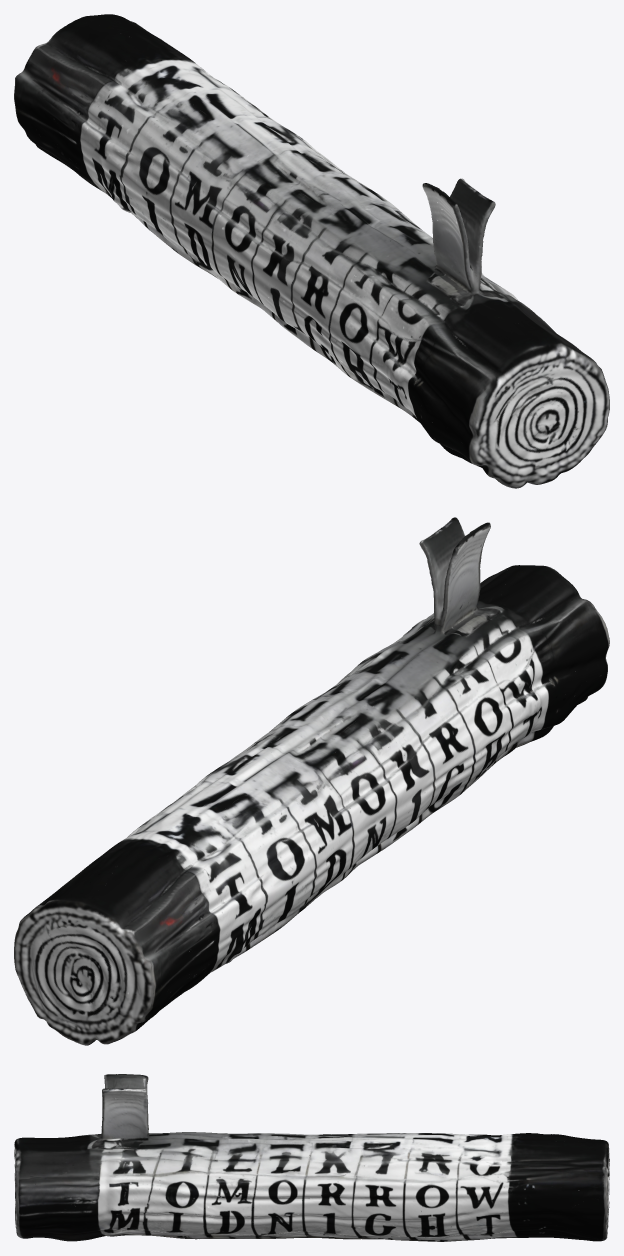
The model's file is Cesare.glb.
The picture shows the model from 3 angles, top to bottom: view 1: azimuth 30°, elevation 25°; view 2: azimuth 150°, elevation 25°; view 3: azimuth 270°, elevation 25°; orthographic projection. The views are drawn at different scales.
Size of the model in its own units: 0.3698 by 0.5847 by 2.
1 material, 1 textured.
